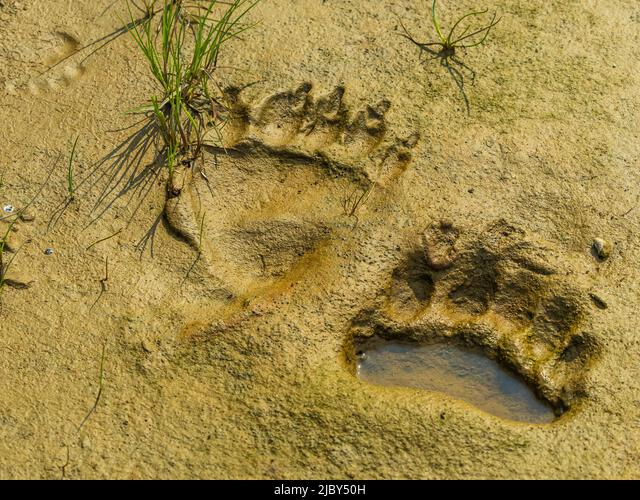bear: (331, 215, 598, 430), (148, 50, 407, 244)
